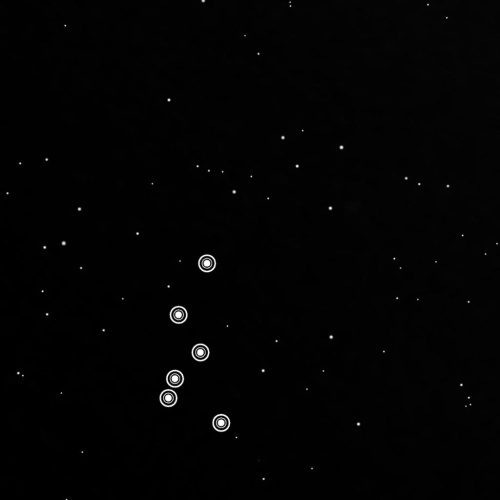cassiopeia: (152, 250, 233, 437)
